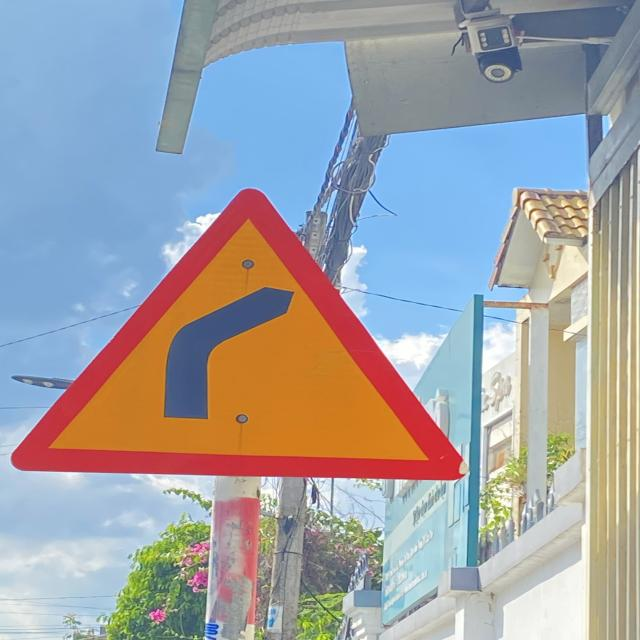Duong_Nguoi_Di_Bo_Cat_Ngang: (12, 185, 474, 482)
